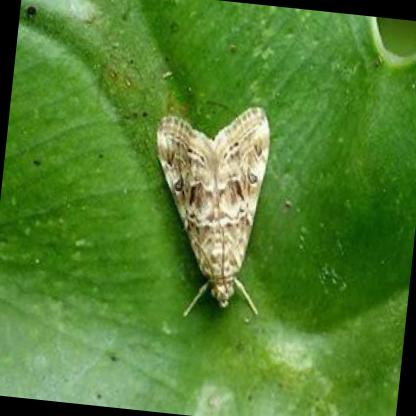Hellula undalis: (149, 95, 273, 328)
